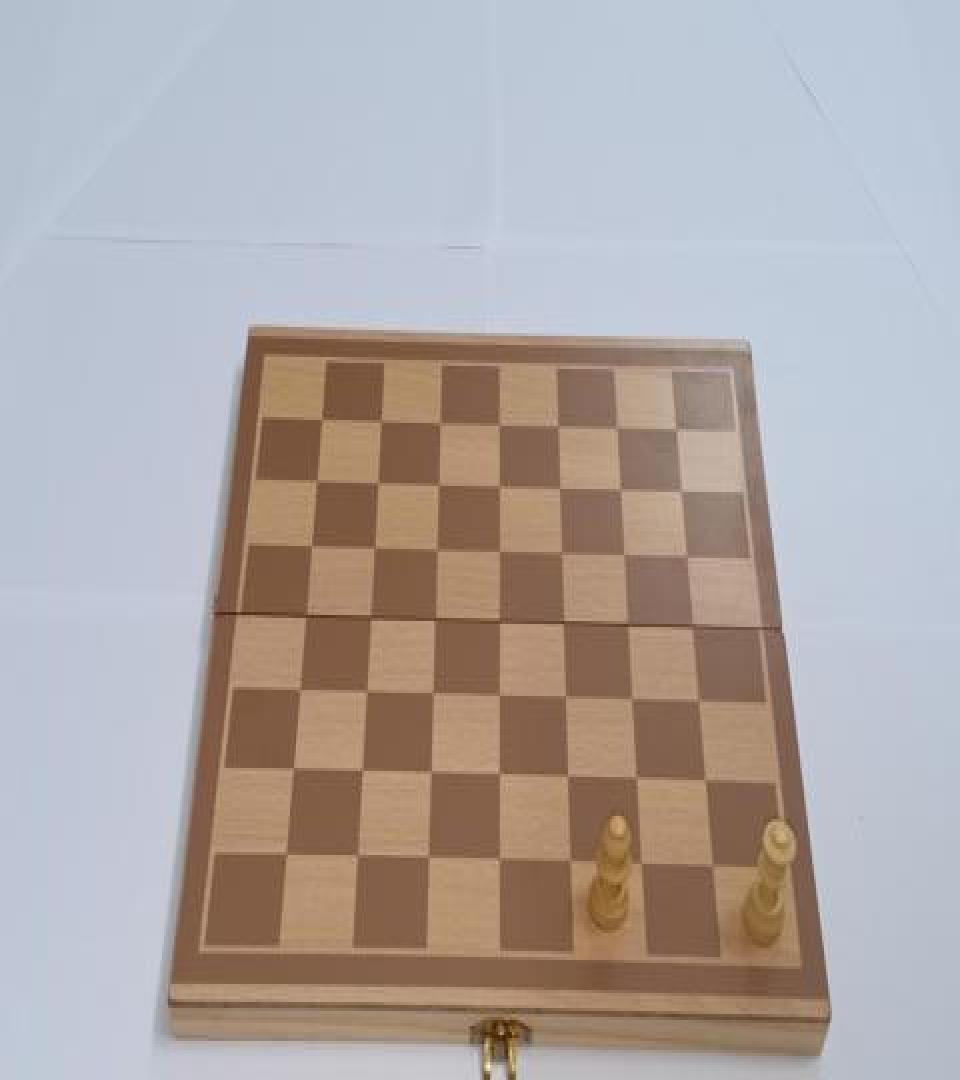xcorner: (352, 760, 370, 788), (427, 472, 445, 500), (547, 412, 565, 440), (672, 478, 690, 506), (311, 408, 329, 435), (306, 470, 324, 497), (301, 534, 319, 561), (295, 604, 313, 631), (283, 759, 301, 786), (276, 844, 294, 871), (367, 471, 385, 498), (363, 537, 381, 564), (360, 606, 378, 633), (356, 681, 374, 708), (348, 846, 366, 873), (426, 538, 444, 565), (423, 683, 441, 710), (419, 849, 437, 876), (488, 411, 506, 438), (488, 474, 506, 501), (489, 540, 507, 567), (489, 609, 507, 636), (490, 684, 508, 711), (491, 765, 509, 792), (491, 851, 509, 878), (554, 612, 572, 639), (557, 687, 575, 714), (560, 766, 578, 793), (607, 414, 625, 441), (611, 477, 629, 504), (615, 543, 633, 570), (624, 689, 642, 716), (630, 768, 648, 795), (635, 855, 653, 882), (666, 415, 684, 442), (678, 545, 696, 572), (685, 615, 703, 642), (692, 690, 710, 717), (700, 771, 718, 798), (708, 857, 726, 884), (289, 680, 307, 706), (370, 410, 388, 436), (429, 410, 447, 436), (425, 608, 443, 634), (421, 764, 439, 790), (549, 476, 567, 502), (552, 542, 570, 568), (563, 854, 581, 880), (620, 614, 638, 640)
